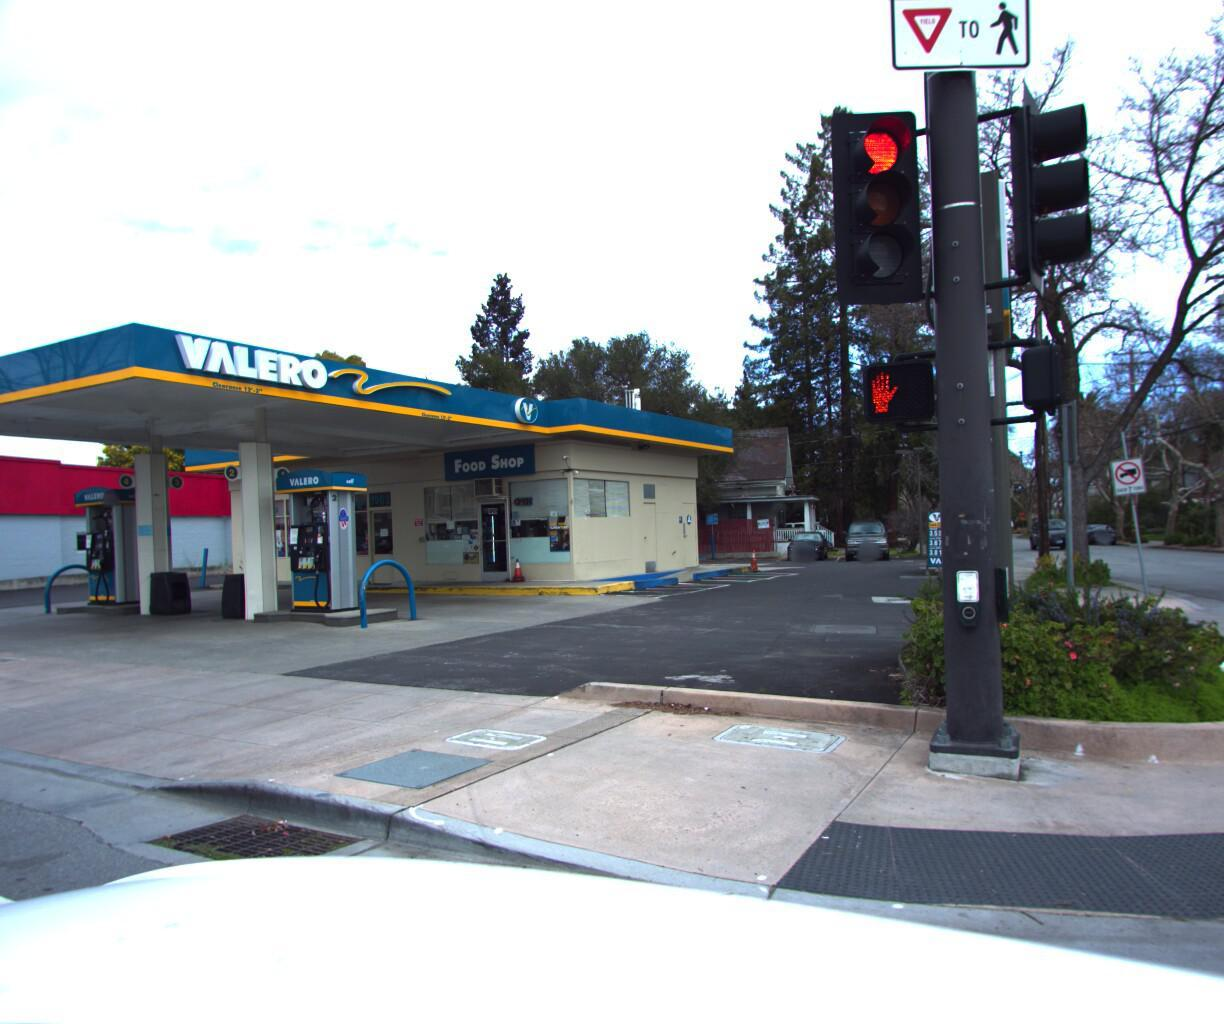car: (366, 489, 527, 556), (839, 511, 892, 557), (1018, 507, 1076, 543), (781, 524, 829, 557), (1069, 515, 1121, 543)
